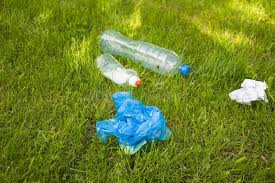paper: (232, 73, 270, 110)
plastic: (87, 26, 202, 77), (94, 50, 144, 92)
plastic bag: (87, 87, 173, 143)
